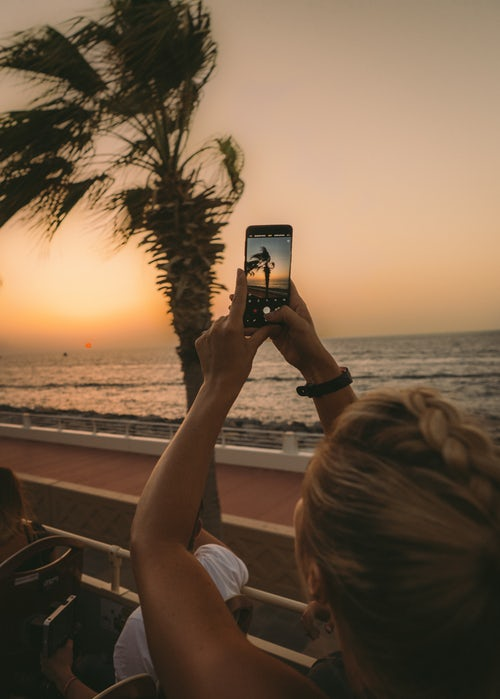phone: (243, 223, 293, 338)
